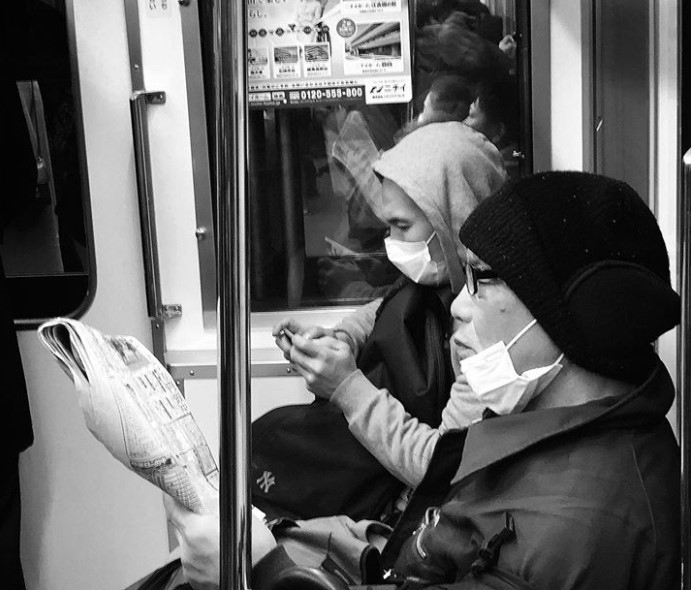face_with_mask: (446, 169, 682, 422), (370, 121, 506, 287)
